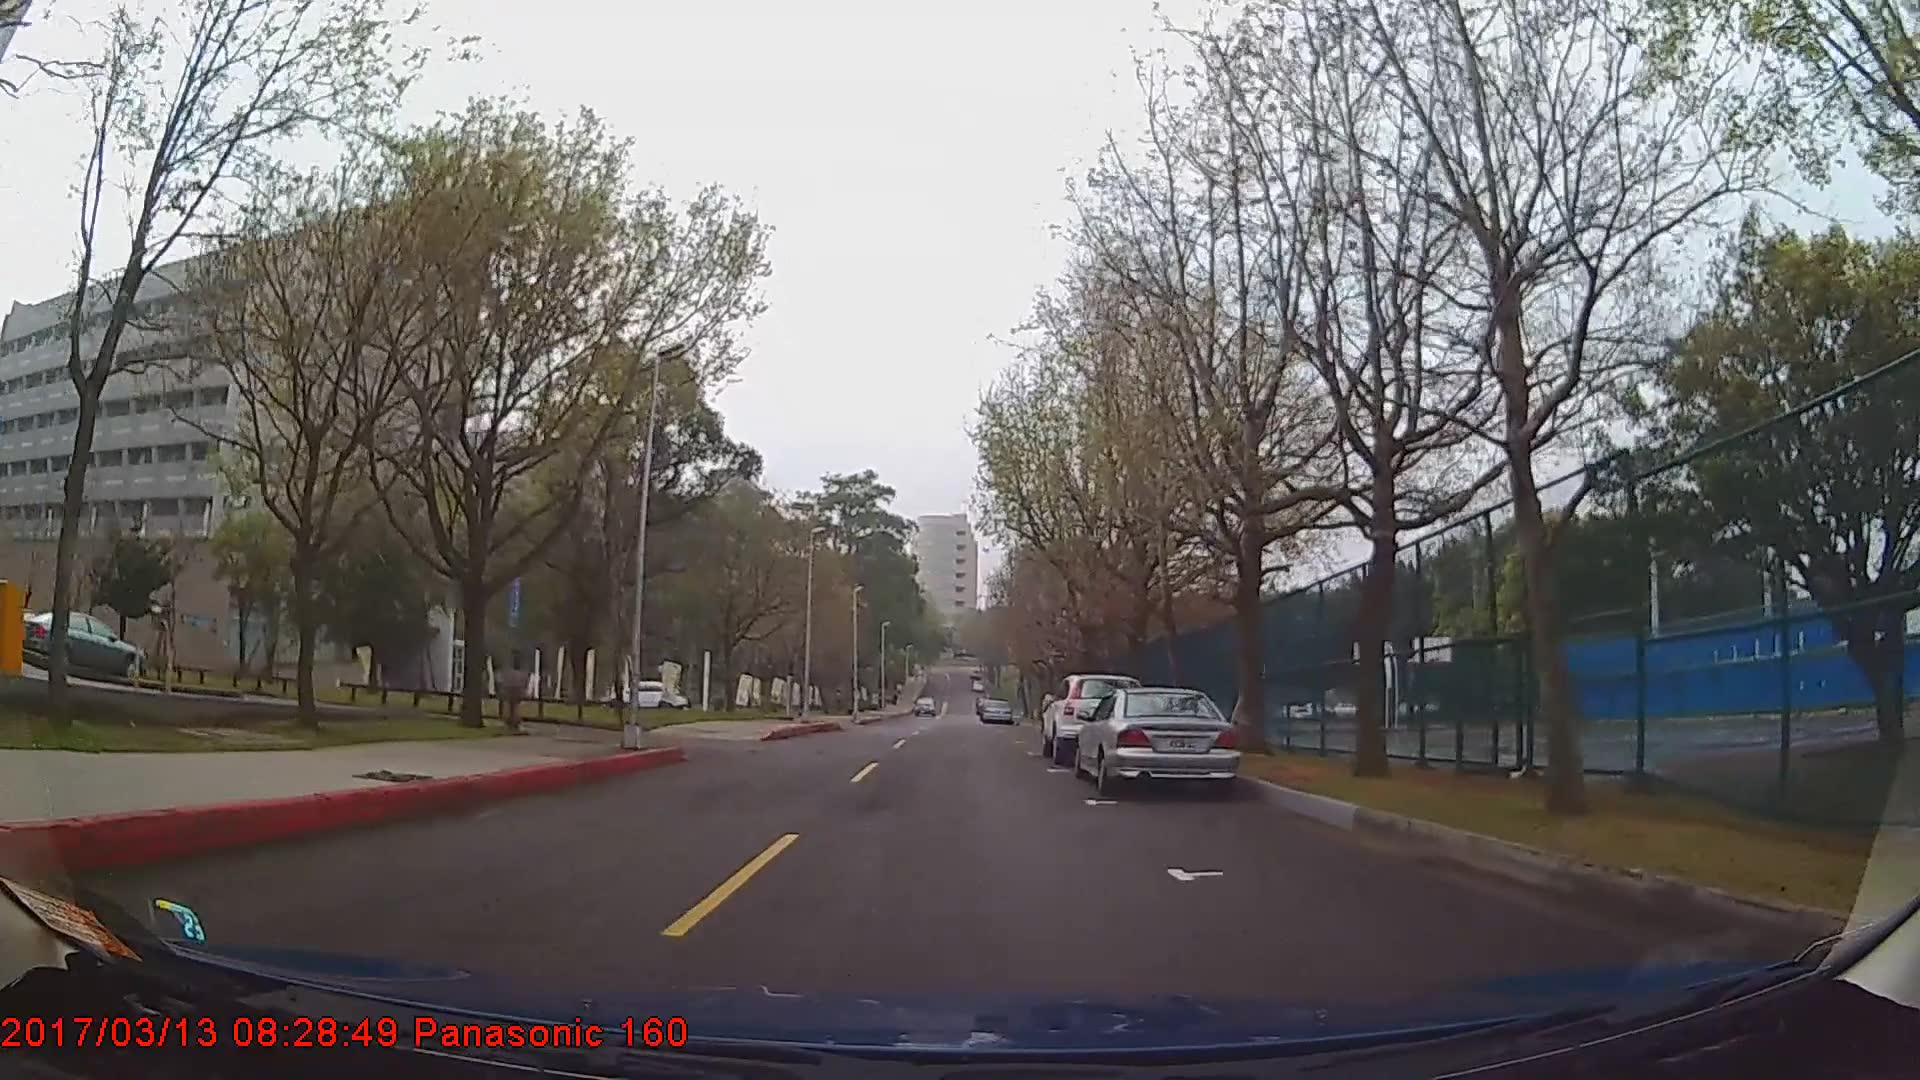vehicle: (1076, 688, 1244, 799), (15, 608, 146, 680), (1039, 673, 1139, 764), (607, 676, 688, 708), (980, 698, 1011, 725)
